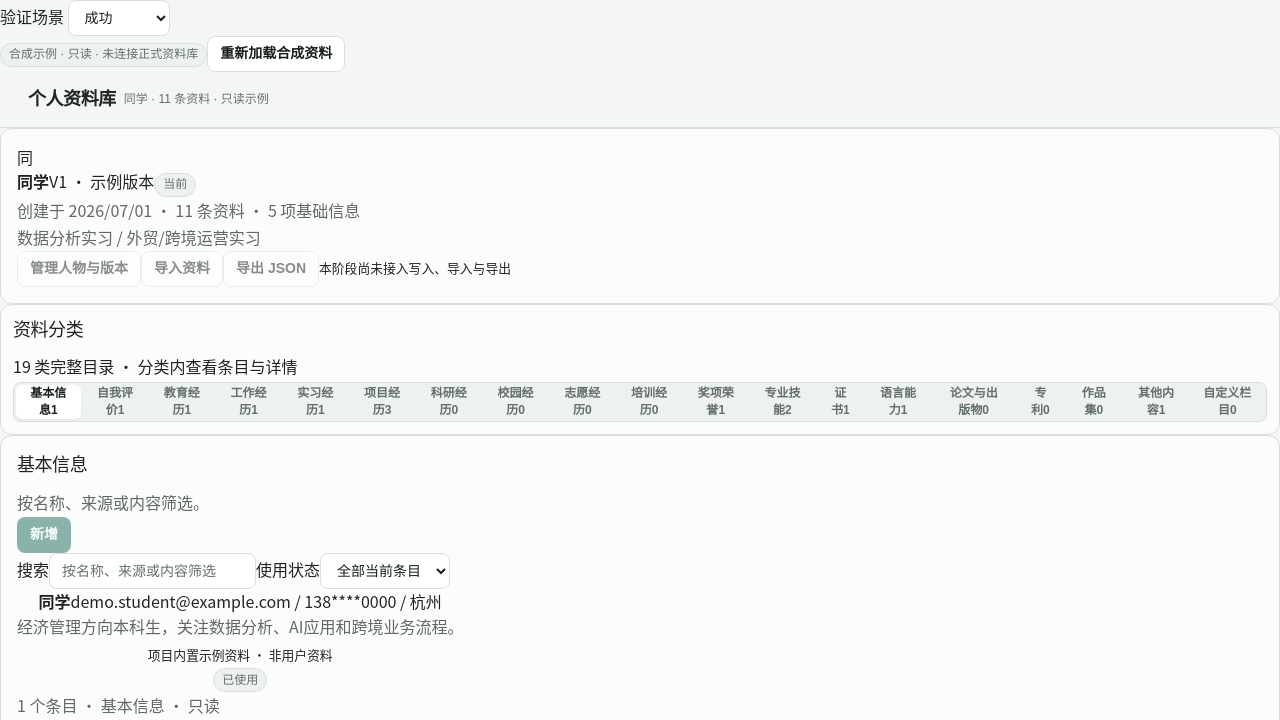
Scenario: P522 Host experience › shows empty without stale facts
This screenshot has width=1280, height=720.
Expected: the tab "基本信息1" is shown, [16, 386, 81, 419]
Select "空资料" in the dropdown labelled "验证场景": [119, 18] box [68, 0, 170, 36]
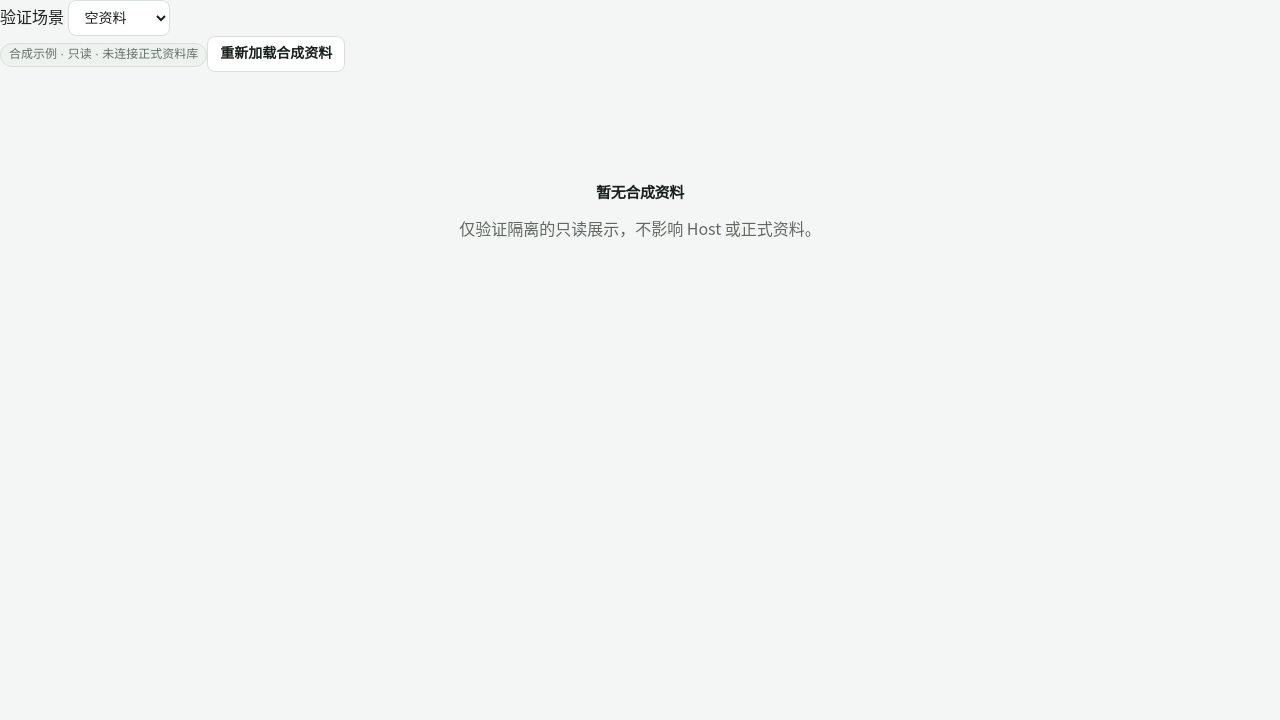
Expected: the heading "暂无合成资料" is shown, [596, 182, 684, 203]
